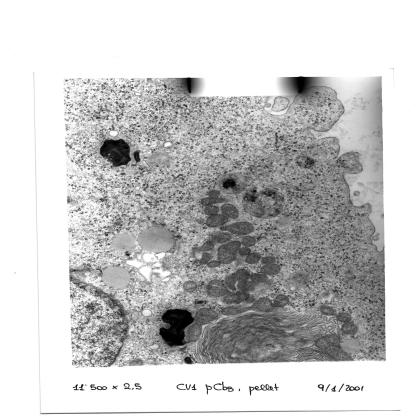mitochondria: (185, 308, 220, 344), (214, 297, 273, 316), (316, 333, 351, 361), (216, 240, 241, 264), (219, 222, 256, 236), (204, 278, 226, 298), (220, 203, 241, 220), (202, 214, 227, 227), (272, 295, 292, 309), (260, 264, 282, 276), (318, 305, 340, 317), (210, 234, 236, 244), (240, 235, 258, 249), (198, 196, 226, 205), (335, 310, 355, 322), (195, 241, 216, 252), (244, 252, 262, 264), (340, 323, 359, 334), (198, 252, 212, 266), (204, 188, 222, 198), (184, 281, 197, 294), (260, 256, 280, 264), (200, 207, 220, 215), (240, 245, 250, 257), (208, 261, 219, 268)
